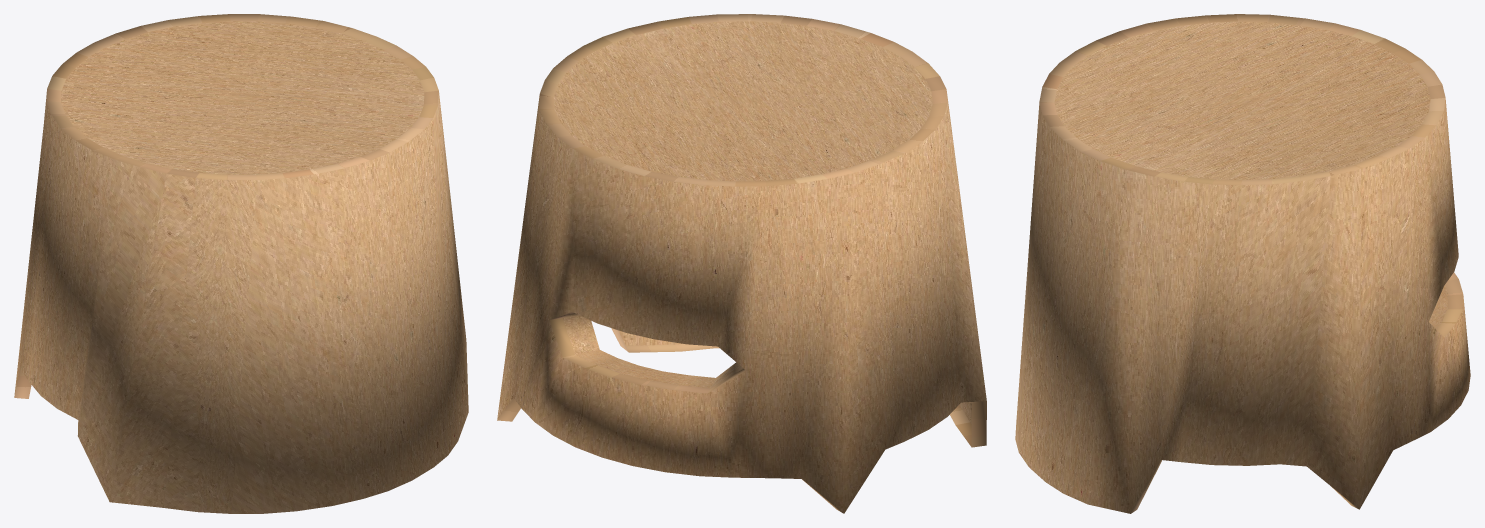
The model's file is Cardboard-Hat.gltf.
3 renders of one model, left to right at view 1: azimuth 30°, elevation 25°; view 2: azimuth 150°, elevation 25°; view 3: azimuth 270°, elevation 25°, orthographic. The views are drawn at different scales.
Visible parts, largest first — view 1: cylinder; view 2: cylinder; view 3: cylinder.
Part boxes in pixels (bbox=[...]): cylinder: bbox=[14, 14, 468, 513]; cylinder: bbox=[497, 14, 986, 513]; cylinder: bbox=[1015, 14, 1470, 513].
Bounding box in the file's own units: 0.9673 × 0.7698 × 0.9457.
1 material, 1 textured.
